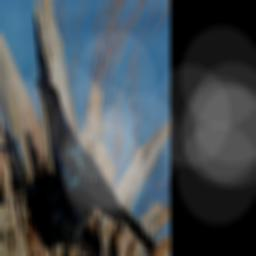Crow: (35, 80, 156, 256)
